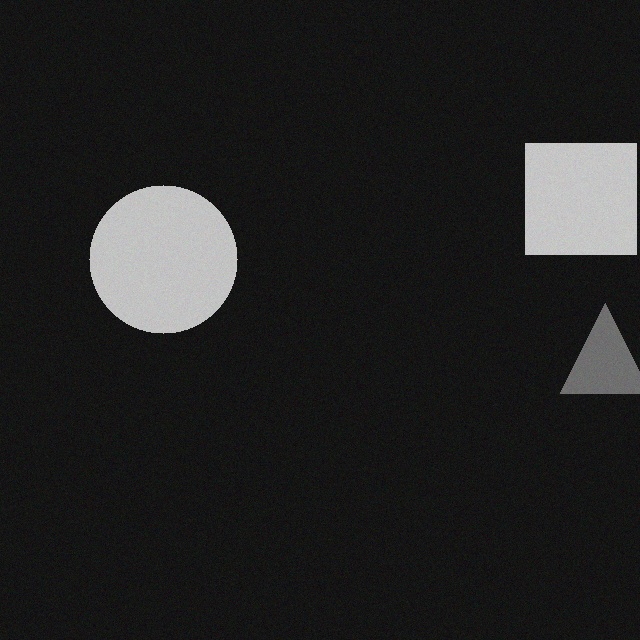circle: (75, 190, 223, 338)
square: (511, 148, 622, 259)
triangle: (546, 308, 636, 398)
